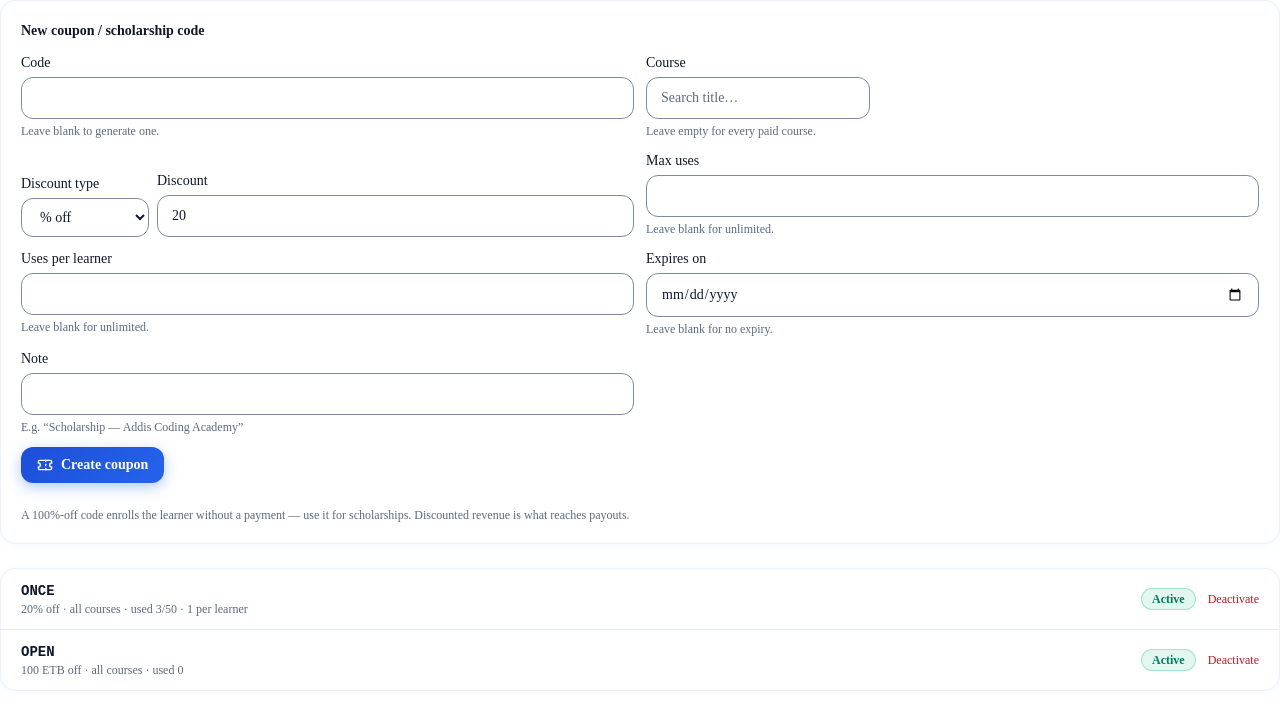
CouponManager: admin › asks before deactivating; Cancel sends nothing, confirming deactivates
The image size is (1280, 707).
Check: the text "ONCE" is shown, box [21,583,55,599]
Click the button "Deactivate" in the row of "· 1 per learner": (1233, 599) [1208,591,1259,607]
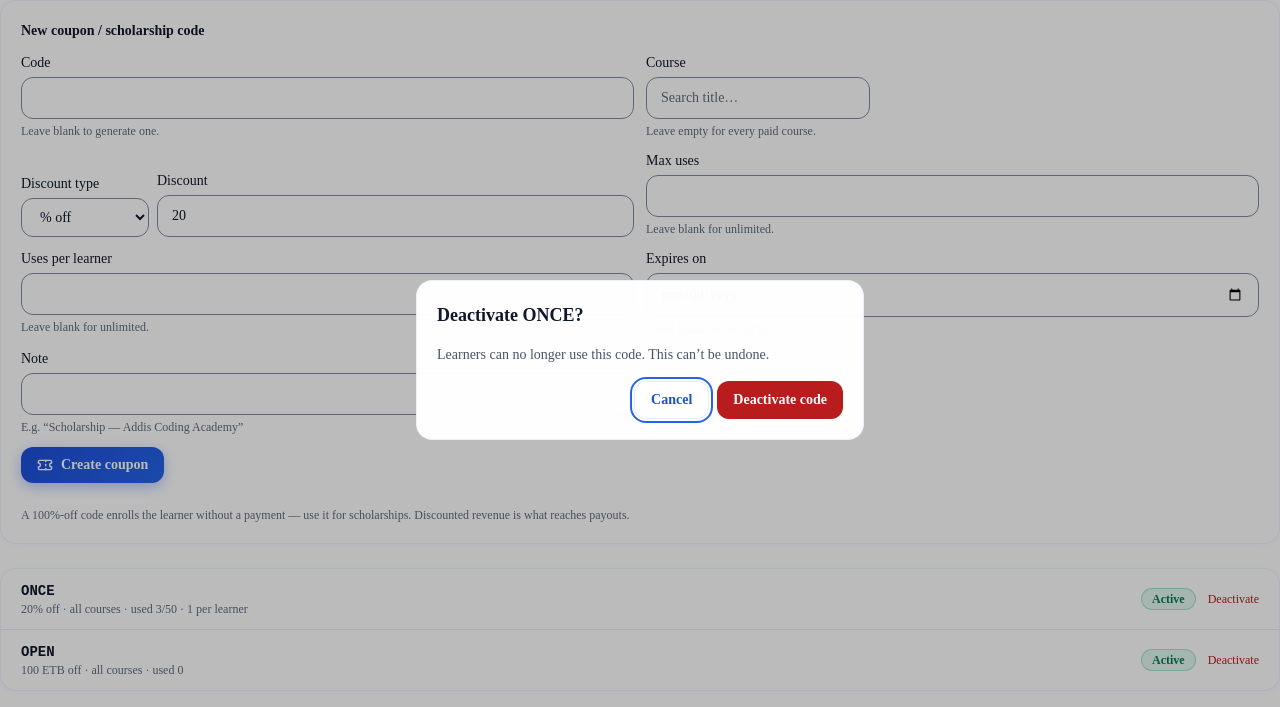
Check: the heading "Deactivate ONCE?" is shown, box [437,305,584,325]
Click the button "Cancel": (672, 400) [634,381,709,419]
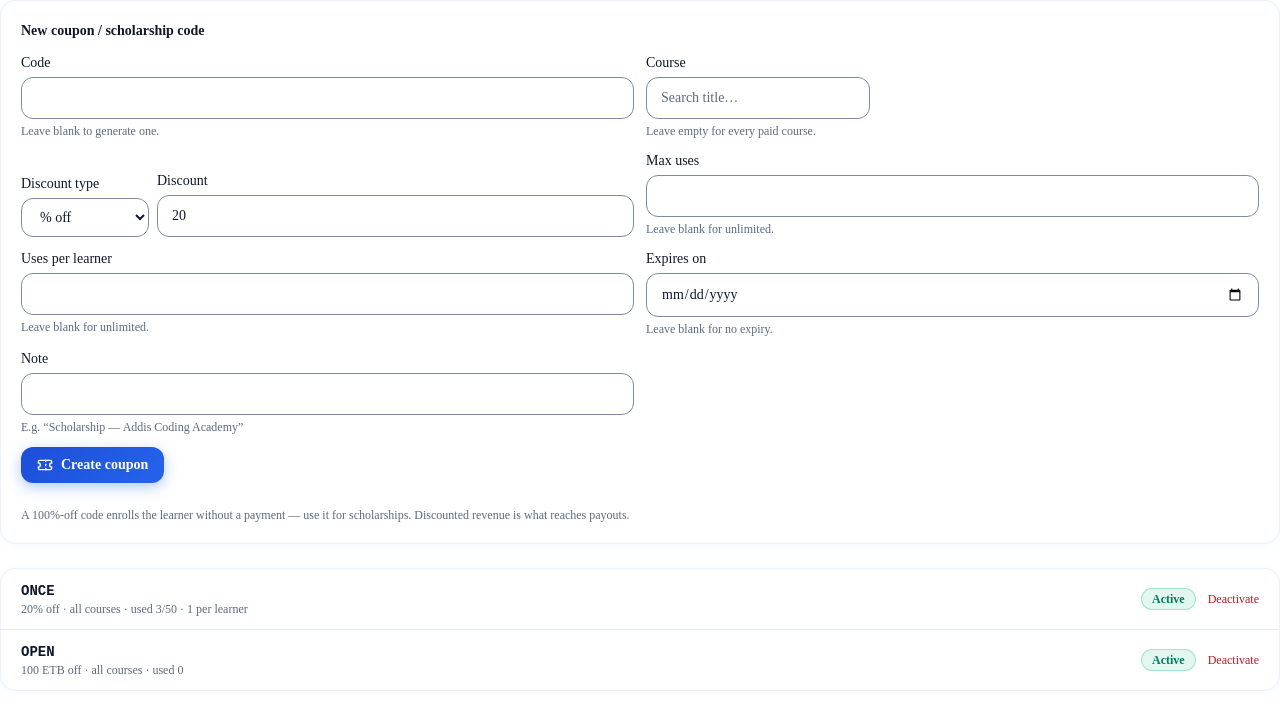
Click the button "Deactivate" in the row of "· 1 per learner": (1233, 599) [1208,591,1259,607]
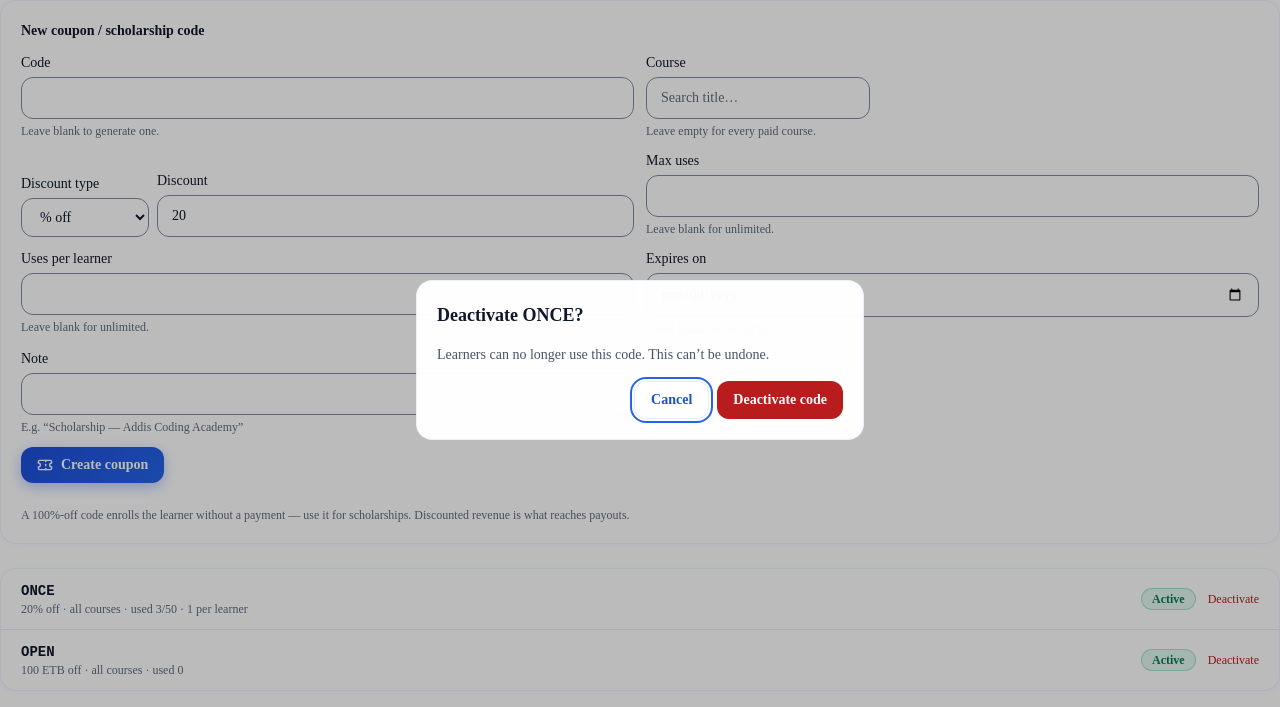
Click the button "Deactivate code": (780, 400) [717,381,843,419]
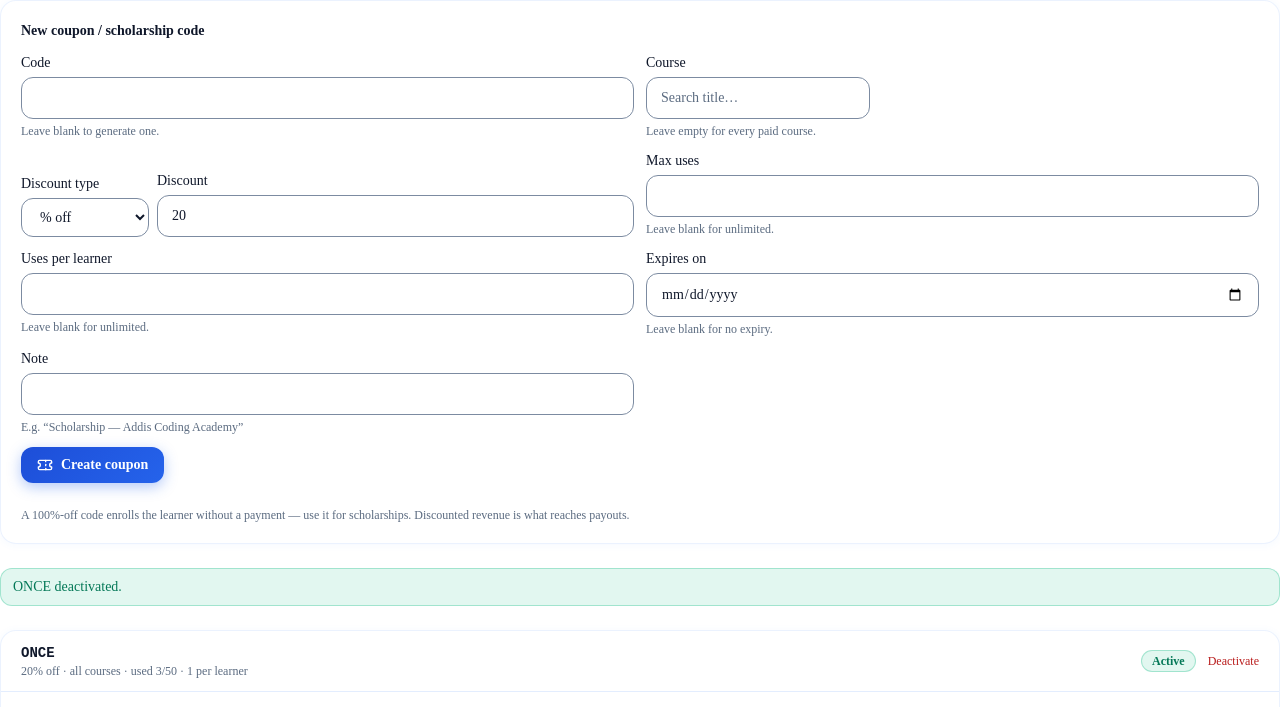
Check: the text "ONCE deactivated." is shown, box [0,568,1279,606]
